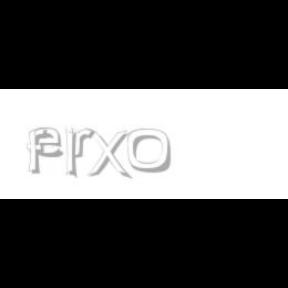O: (128, 128, 172, 174)
X: (85, 128, 129, 180)
e: (35, 128, 68, 158)
f: (27, 128, 51, 174)
l: (65, 128, 81, 180)
r: (70, 128, 98, 158)
